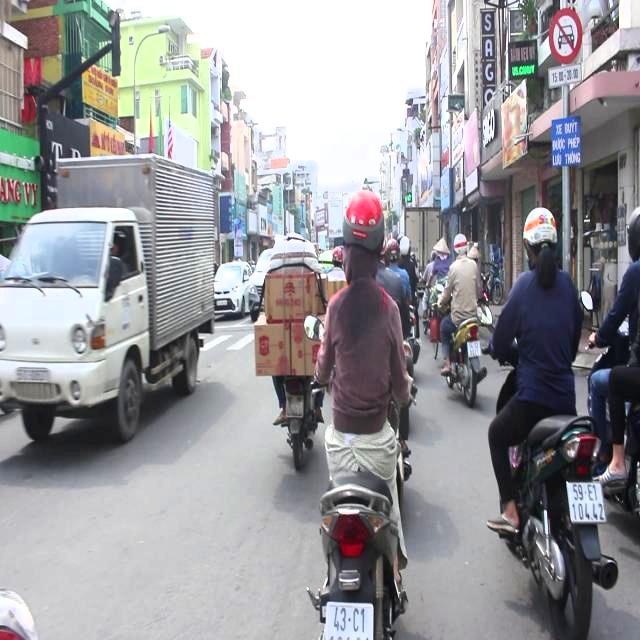P.103a: (547, 6, 583, 64)
